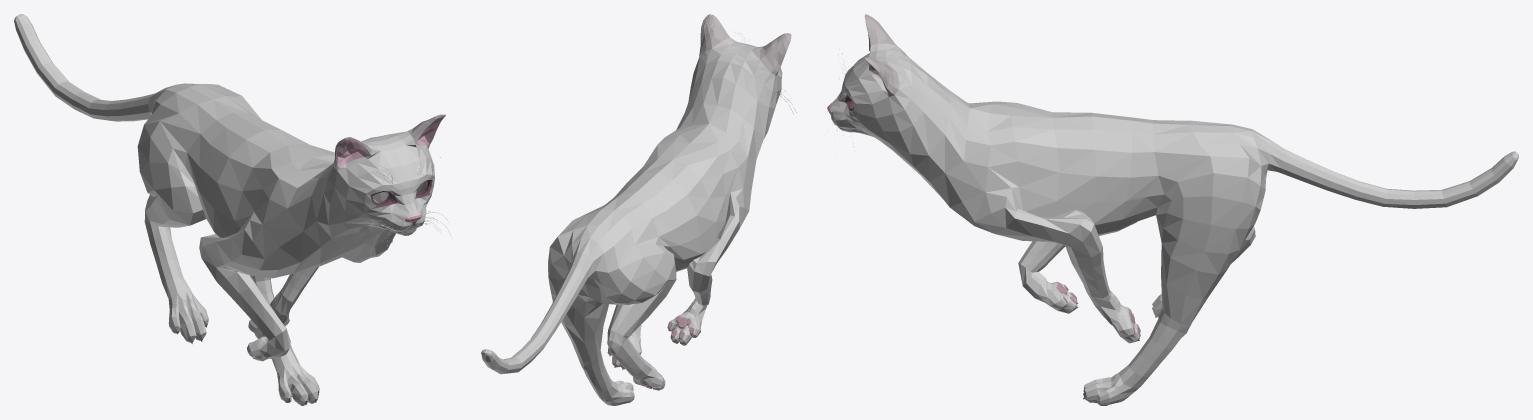
The model's file is Run_F_00.glb.
The picture shows the model from 3 angles, left to right: view 1: azimuth 30°, elevation 25°; view 2: azimuth 150°, elevation 25°; view 3: azimuth 270°, elevation 25°; orthographic projection. The views are drawn at different scales.
Parts seen in each view (by area): view 1: Run_F_00; view 2: Run_F_00; view 3: Run_F_00.
Part boxes in pixels (x1,y1,x2,y2): Run_F_00: (14,14,451,405); Run_F_00: (481,14,796,405); Run_F_00: (827,14,1518,405).
Size of the model in its own units: 0.1736 by 0.4142 by 0.7482.
Materials: 1 (1 with a texture image).
